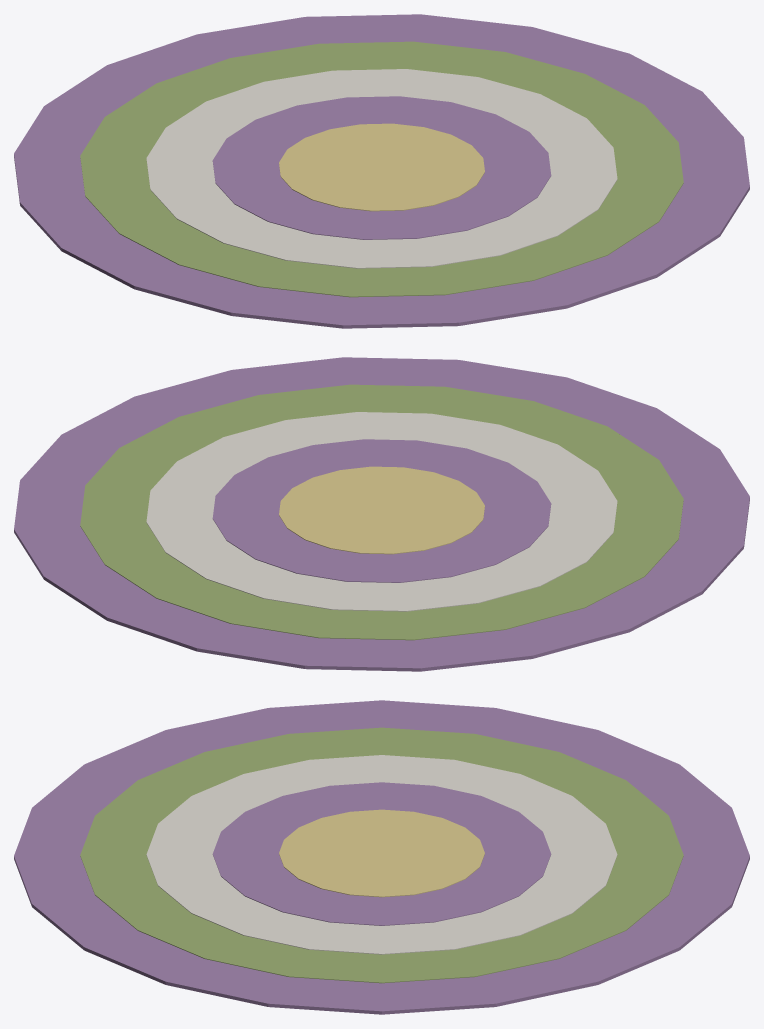
The model's file is RoundRug.fbx.
3 views of the same model, one above another, from view 1: azimuth 30°, elevation 25°; view 2: azimuth 150°, elevation 25°; view 3: azimuth 270°, elevation 25° (orthographic).
Visible parts, largest first — view 1: Prop_RoundRug; view 2: Prop_RoundRug; view 3: Prop_RoundRug.
Part boxes in pixels (x1,y1,x2,y2): Prop_RoundRug: (14, 14, 749, 328); Prop_RoundRug: (14, 357, 749, 671); Prop_RoundRug: (14, 700, 749, 1014).
Size of the model in its own units: 2 by 0.018 by 2.
